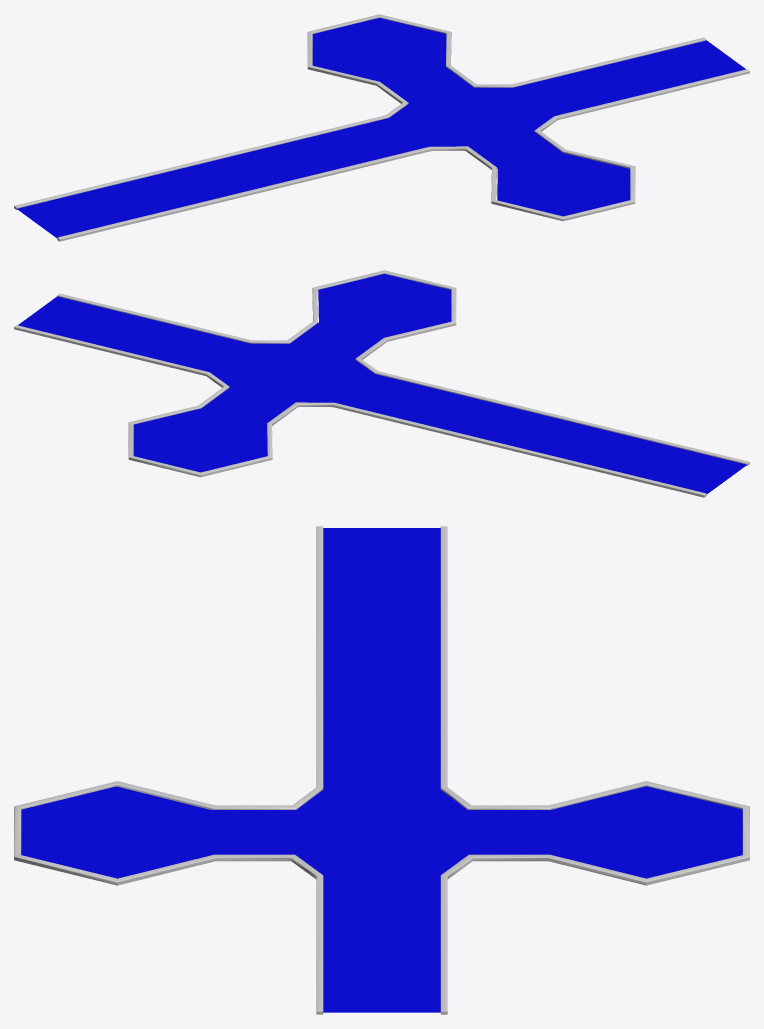
File: Dom_znati_doroga.fbx
3 views of the same model, one above another, from view 1: azimuth 30°, elevation 25°; view 2: azimuth 150°, elevation 25°; view 3: azimuth 270°, elevation 25° (orthographic). The views are drawn at different scales.
Visible parts, largest first — view 1: Dom_znati_doroga; view 2: Dom_znati_doroga; view 3: Dom_znati_doroga.
Part boxes in pixels (x1,y1,x2,y2): Dom_znati_doroga: [14, 14, 749, 241]; Dom_znati_doroga: [14, 270, 749, 497]; Dom_znati_doroga: [14, 526, 749, 1014].
Bounding box in the file's own units: 242 × 0.8617 × 155.
